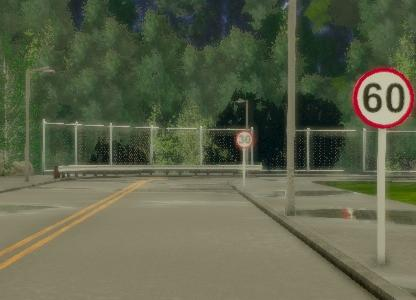Speed_60: (352, 61, 413, 130)
